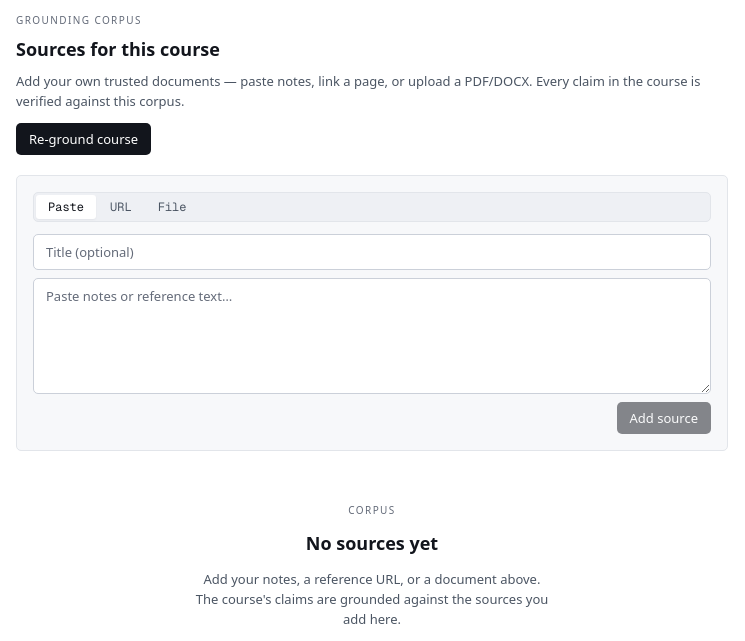
Test: CorpusPanel › switches the add form to URL entry via the source-type segmented control
The image size is (745, 641).
Check: the heading "No sources yet" is shown, box [306,530,438,557]
Check: the field with placeholder "example.edu" is not shown
# Act — pick the URL segment (a radiogroup radio).
Click the radio button labelled "URL".
click(121, 207)  # box [98,195,144,219]
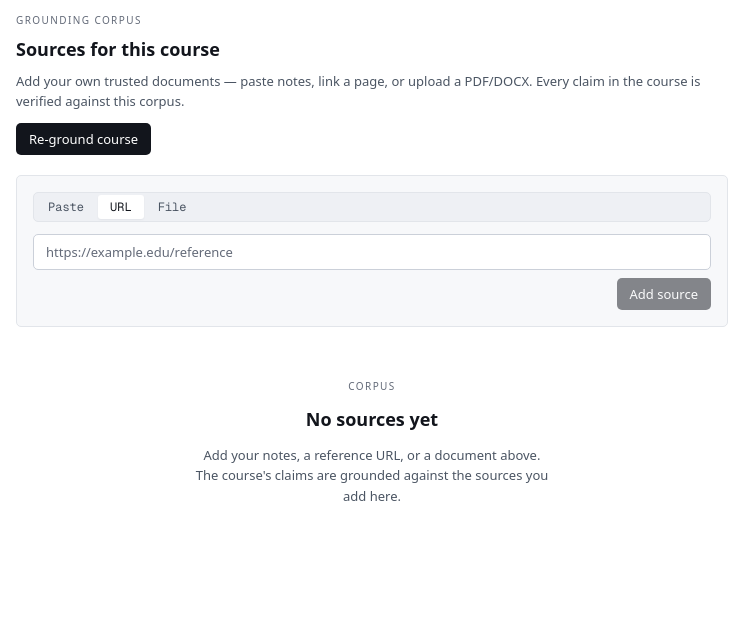
Check: the radio button labelled "URL" is checked, box [98,195,144,219]
Check: the field with placeholder "https://example.edu/reference" is shown, box [33,234,711,270]
